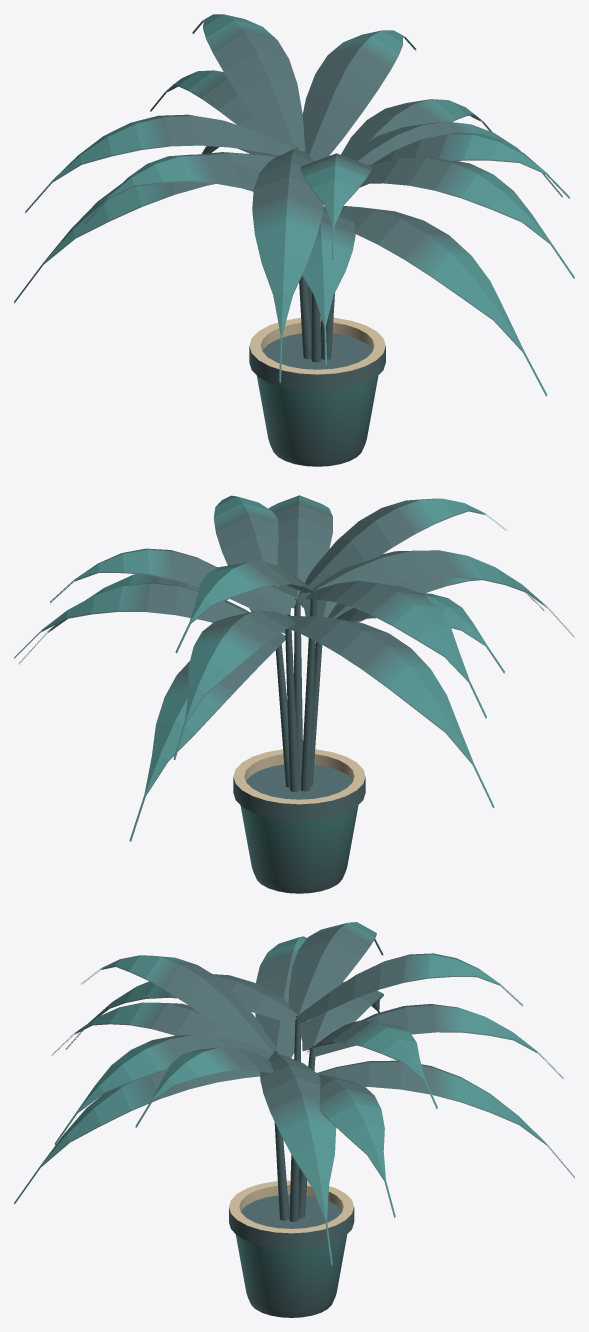
File: KC32__AD_Int_Plant_Palm.glb
The picture shows the model from 3 angles, top to bottom: view 1: azimuth 30°, elevation 25°; view 2: azimuth 150°, elevation 25°; view 3: azimuth 270°, elevation 25°; orthographic projection. The views are drawn at different scales.
Visible parts, largest first — view 1: KC32_CORPS__AD_Int_Plant_Palm, KC32_BRONZE__AD_Int_Plant_Palm; view 2: KC32_CORPS__AD_Int_Plant_Palm, KC32_BRONZE__AD_Int_Plant_Palm; view 3: KC32_CORPS__AD_Int_Plant_Palm, KC32_BRONZE__AD_Int_Plant_Palm.
Part boxes in pixels (x1,y1,x2,y2): KC32_CORPS__AD_Int_Plant_Palm: (14, 14, 574, 466); KC32_BRONZE__AD_Int_Plant_Palm: (249, 317, 385, 374); KC32_CORPS__AD_Int_Plant_Palm: (14, 495, 574, 893); KC32_BRONZE__AD_Int_Plant_Palm: (233, 749, 365, 804); KC32_CORPS__AD_Int_Plant_Palm: (14, 922, 574, 1317); KC32_BRONZE__AD_Int_Plant_Palm: (229, 1180, 353, 1233).
Bounding box in the file's own units: 2.56 × 1.76 × 2.61.
